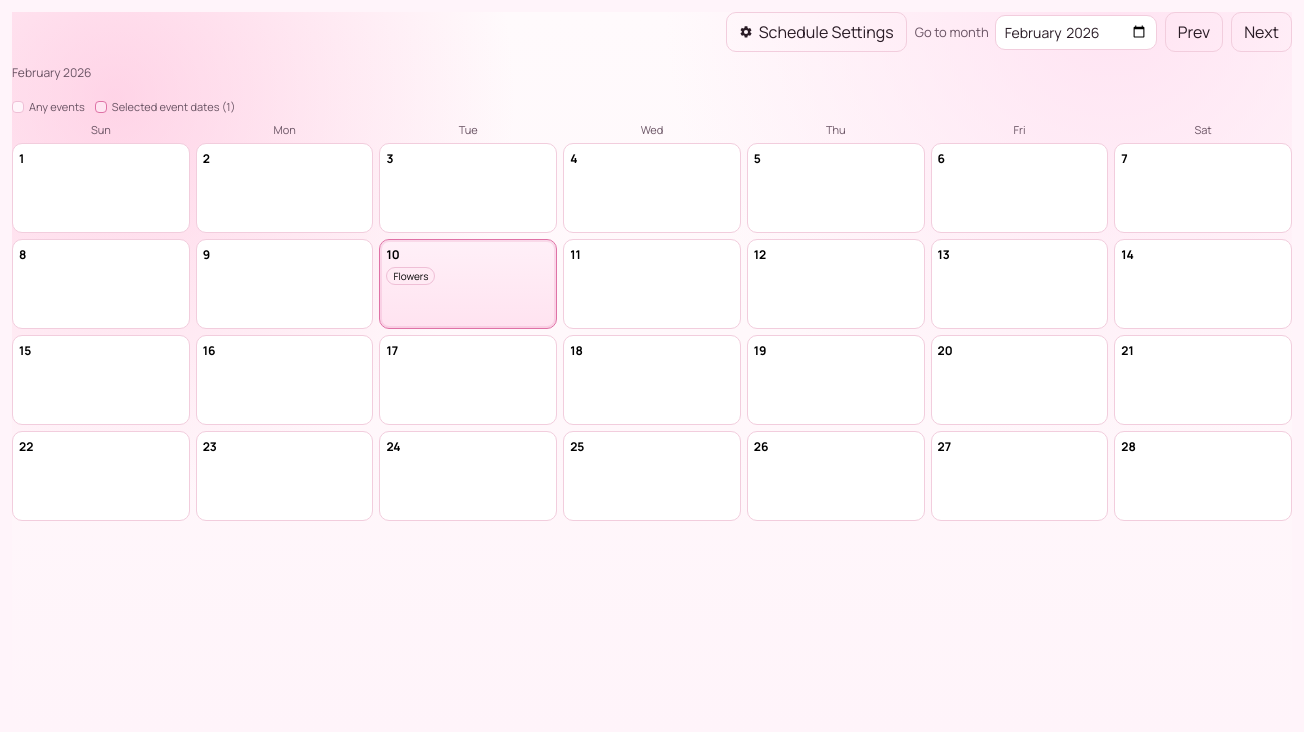
EventCalendar › renders events and selects date/event from day cells
The width and height of the screenshot is (1304, 732).
Click the button "Schedule Settings" at coordinates (816, 32), box [726,12,907,52]
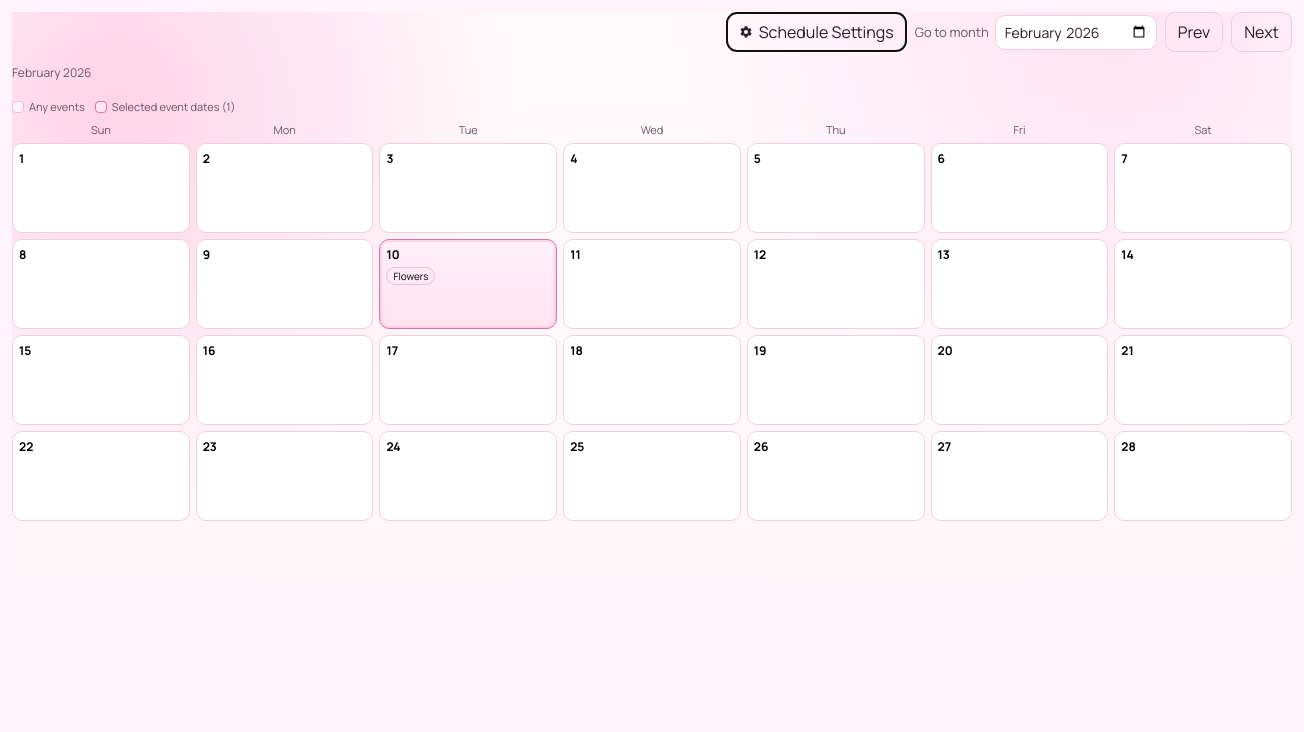
Click the button "10 Flowers" at coordinates (468, 284), box [379,239,557,329]
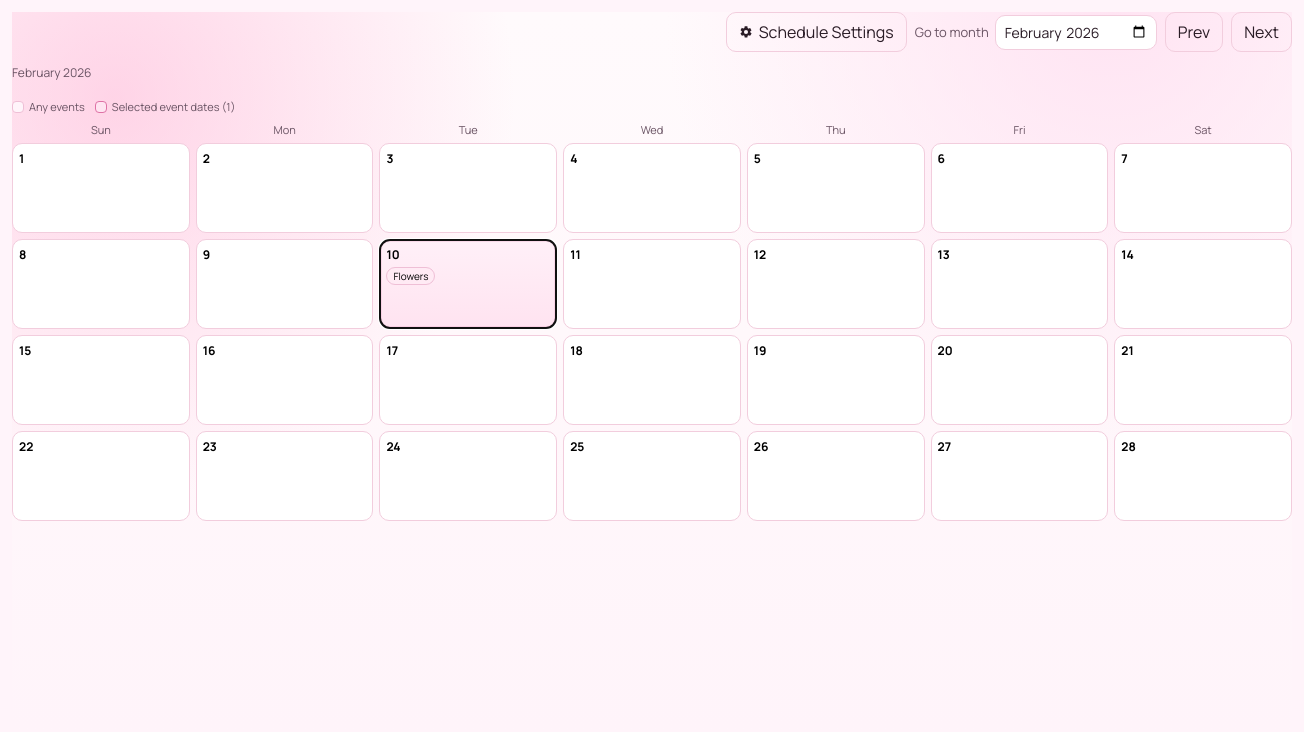
Replace the text in the field labelled "Go to month" with "2027-01" at coordinates (1076, 32), box [995,14,1157,50]
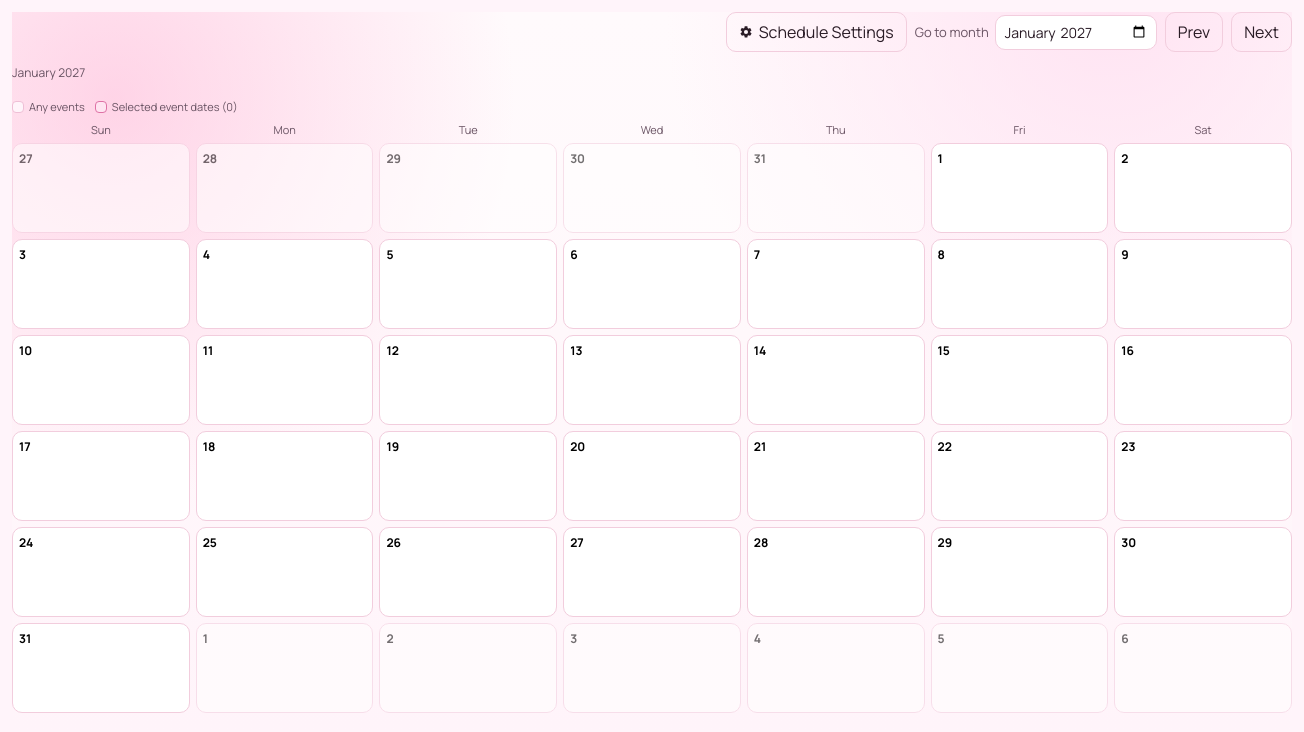
Now the text "January 2027" is shown, box [12,64,85,81]
